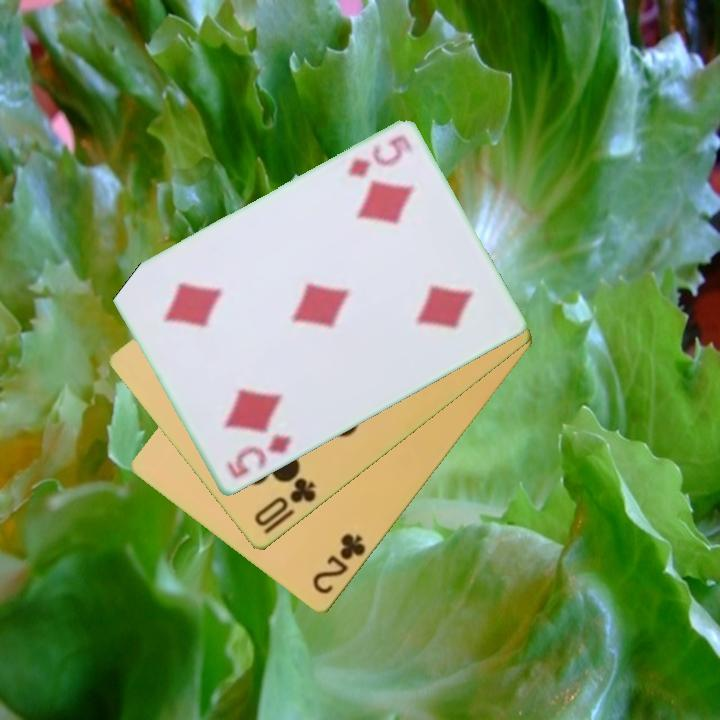10c: (251, 474, 319, 531)
2c: (309, 530, 369, 598)
5d: (222, 431, 294, 482), (344, 131, 415, 182)
